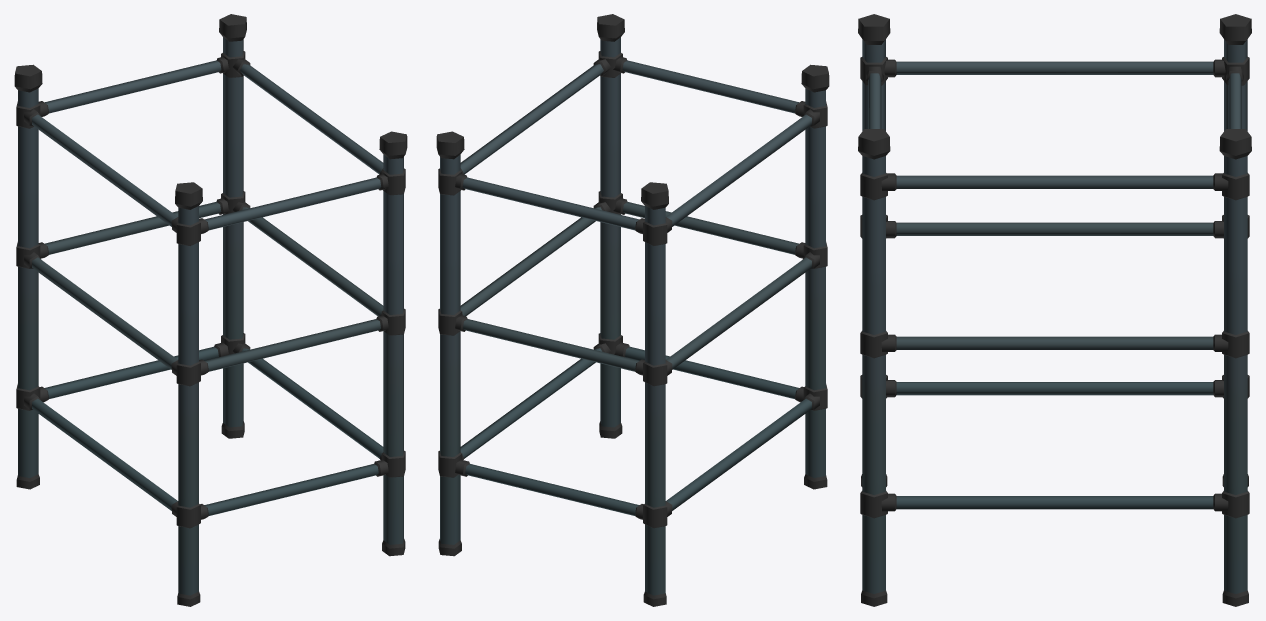
The model's file is Scaffolding_E_1.fbx.
The picture shows the model from 3 angles, left to right: view 1: azimuth 30°, elevation 25°; view 2: azimuth 150°, elevation 25°; view 3: azimuth 270°, elevation 25°; orthographic projection. The views are drawn at different scales.
Parts seen in each view (by area): view 1: Scaffolding_E_1; view 2: Scaffolding_E_1; view 3: Scaffolding_E_1.
Boxes of the visible parts, box(x1,y1,x2,y2) form: Scaffolding_E_1: box(14, 14, 407, 606); Scaffolding_E_1: box(436, 14, 829, 606); Scaffolding_E_1: box(858, 14, 1251, 606).
Bounding box in the file's own units: 167 × 285 × 218.
